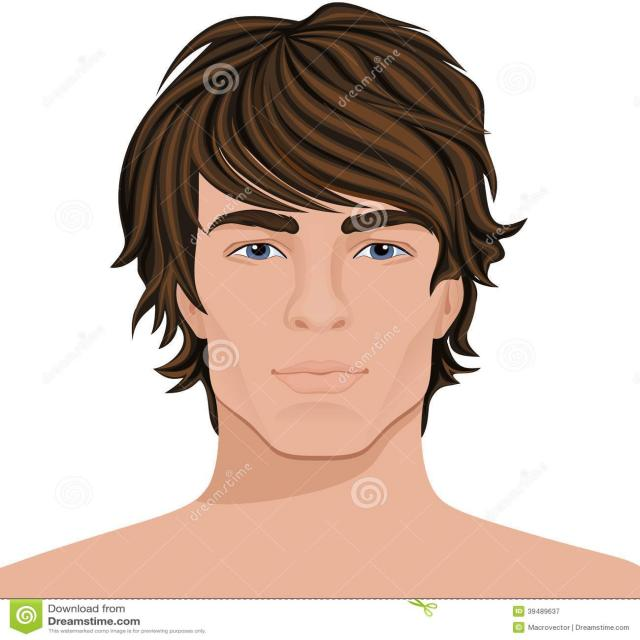earlobe: (190, 312, 208, 340), (433, 313, 450, 339)
eye: (225, 238, 289, 262), (352, 240, 414, 262)
nose: (287, 321, 351, 344)
wholeear: (434, 268, 464, 339), (175, 282, 207, 339)
